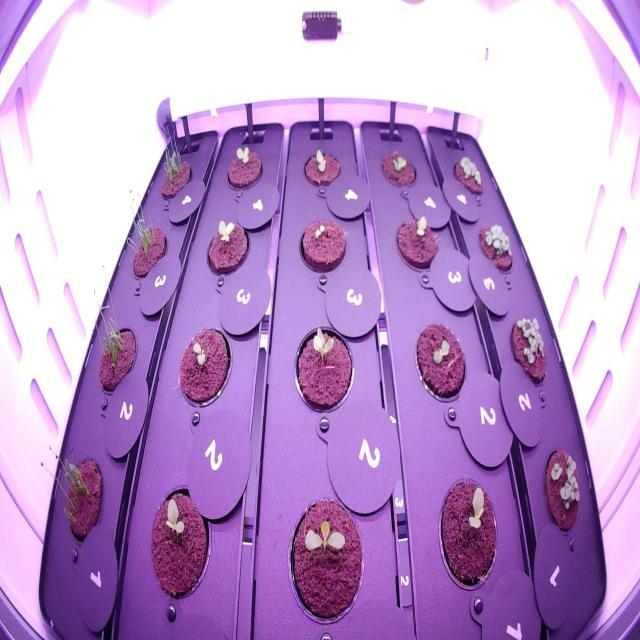germination: (427, 466, 502, 600), (143, 476, 215, 605), (38, 440, 105, 548), (84, 275, 140, 404), (410, 315, 470, 413), (119, 181, 170, 296), (174, 320, 235, 414), (292, 209, 352, 282), (152, 112, 195, 207), (542, 441, 583, 538), (506, 309, 551, 397), (390, 206, 442, 275), (473, 216, 518, 280), (376, 141, 423, 197), (296, 145, 345, 192), (449, 150, 487, 201)
young: (274, 487, 370, 632), (286, 317, 358, 423), (200, 210, 252, 284), (221, 139, 268, 197)
